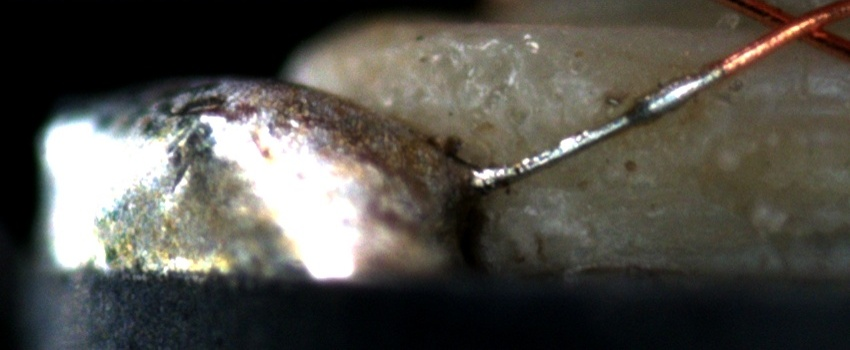CL: (748, 3, 841, 52)
DL: (564, 70, 850, 112)
TS: (484, 63, 722, 190)
TTCW: (470, 39, 765, 189)
